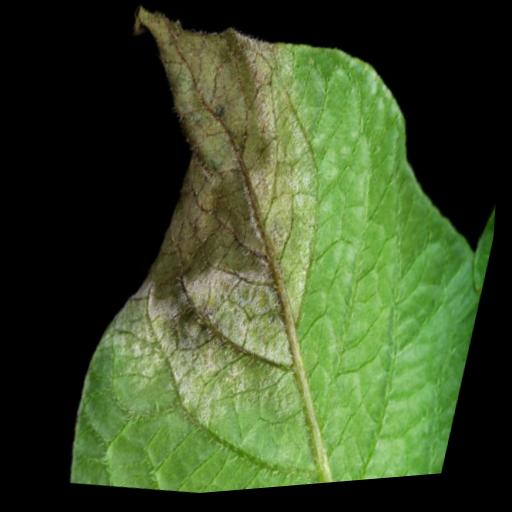Late Blight: (33, 0, 511, 508)
